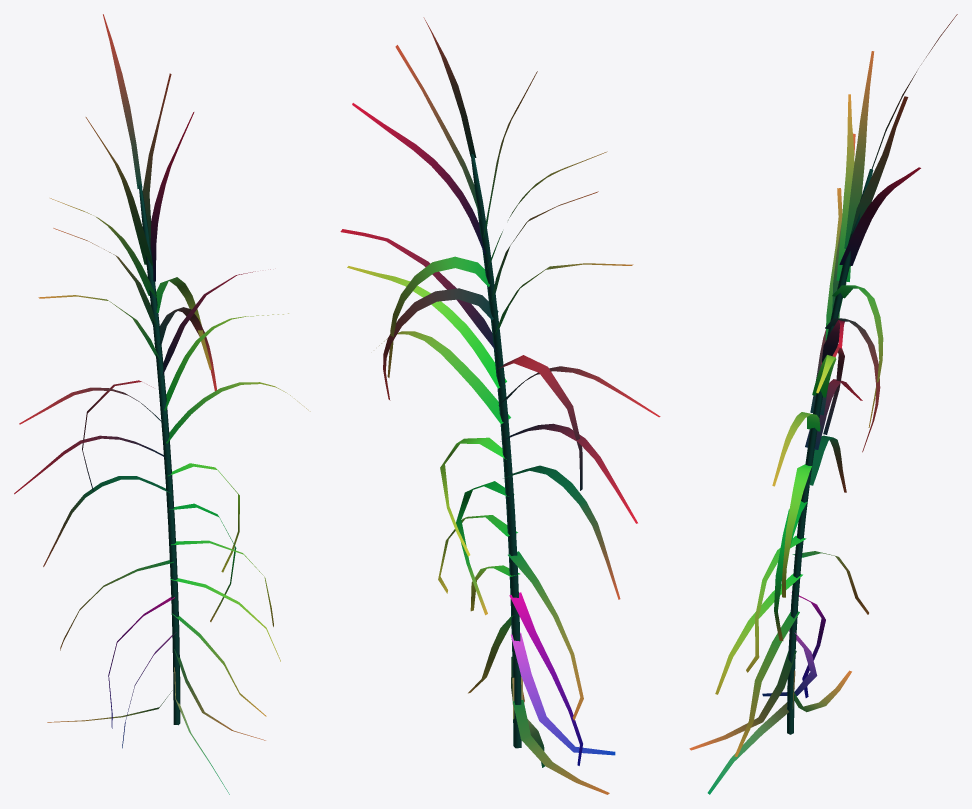
Rendered from Giant_Reed_sjllX_Mid_sjllX_VarE_LOD0.fbx.
3 renders of one model, left to right at view 1: azimuth 30°, elevation 25°; view 2: azimuth 150°, elevation 25°; view 3: azimuth 270°, elevation 25°, orthographic. The views are drawn at different scales.
Visible parts, largest first — view 1: _e12e_VarE_LOD1; view 2: _e12e_VarE_LOD1; view 3: _e12e_VarE_LOD1.
Boxes of the visible parts, box(x1,y1,x2,y2) form: _e12e_VarE_LOD1: box(14, 14, 310, 794); _e12e_VarE_LOD1: box(340, 17, 660, 794); _e12e_VarE_LOD1: box(689, 14, 957, 794).
Bounding box in the file's own units: 93.4 × 237 × 74.69.
